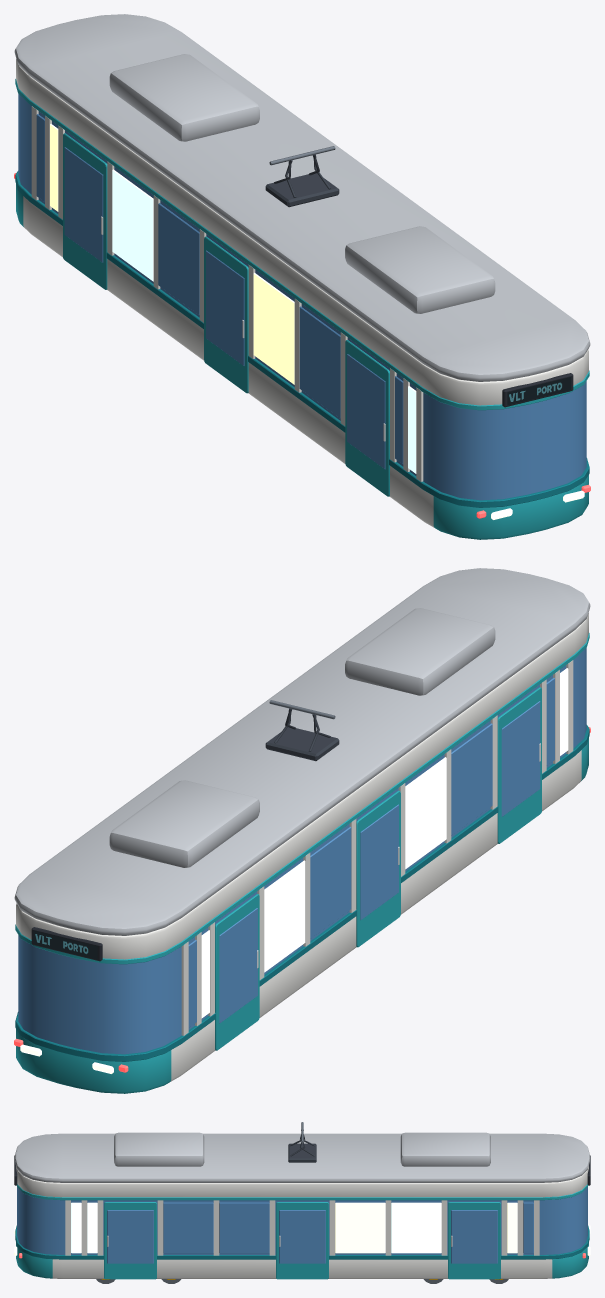
Rendered from bonde_moderno.glb.
The picture shows the model from 3 angles, top to bottom: view 1: azimuth 30°, elevation 25°; view 2: azimuth 150°, elevation 25°; view 3: azimuth 270°, elevation 25°; orthographic projection. The views are drawn at different scales.
Visible parts, largest first — view 1: bonde_moderno, porta_correr_2, porta_correr_1, porta_correr_3; view 2: bonde_moderno, porta_correr_2, porta_correr_3, porta_correr_1; view 3: bonde_moderno, porta_correr_4, porta_correr_5, porta_correr_6.
Boxes of the visible parts, box(x1,y1,x2,y2) form: bonde_moderno: box(14, 14, 590, 539); porta_correr_2: box(204, 236, 248, 393); porta_correr_1: box(345, 340, 389, 496); porta_correr_3: box(63, 133, 107, 289); bonde_moderno: box(14, 568, 590, 1093); porta_correr_2: box(356, 790, 400, 947); porta_correr_3: box(215, 894, 259, 1050); porta_correr_1: box(497, 687, 541, 843); bonde_moderno: box(14, 1122, 590, 1279); porta_correr_4: box(104, 1202, 156, 1279); porta_correr_5: box(276, 1202, 328, 1279); porta_correr_6: box(448, 1202, 500, 1279).
Bounding box in the file's own units: 2.69 × 3.72 × 14.09.
Materials: 7 (2 with a texture image).
